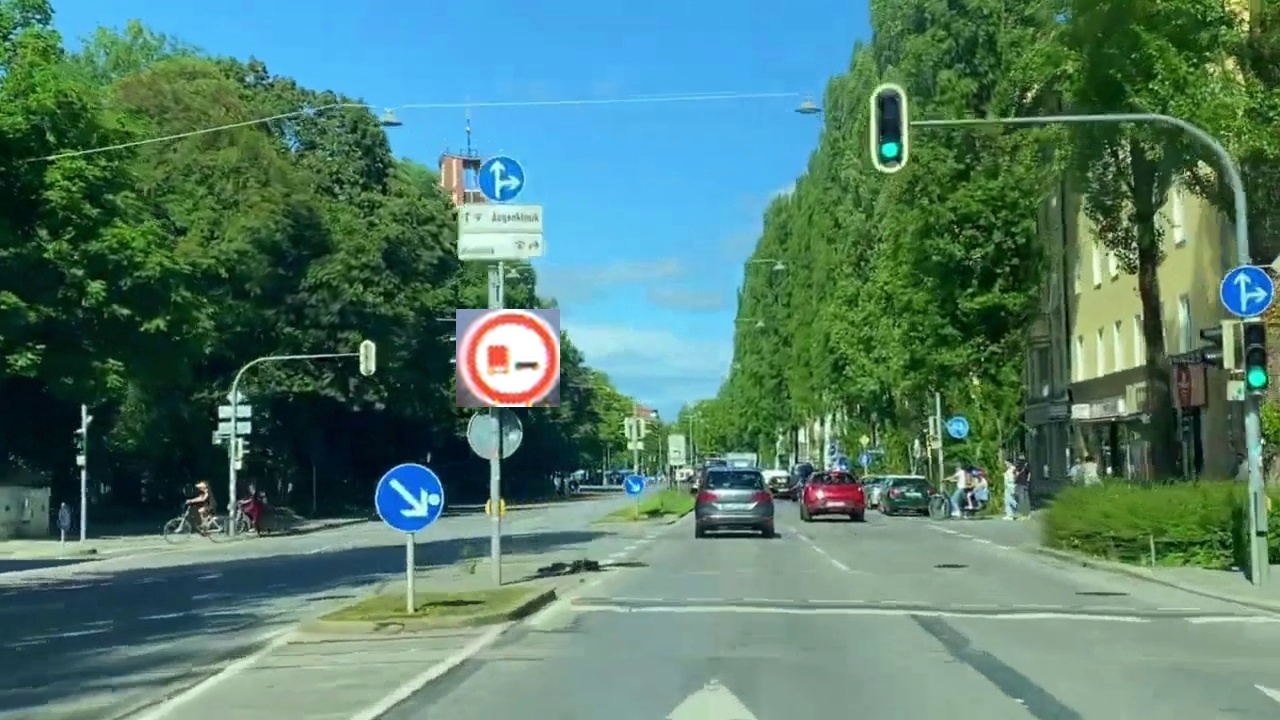No pass >3.5t: (456, 309, 560, 407)
